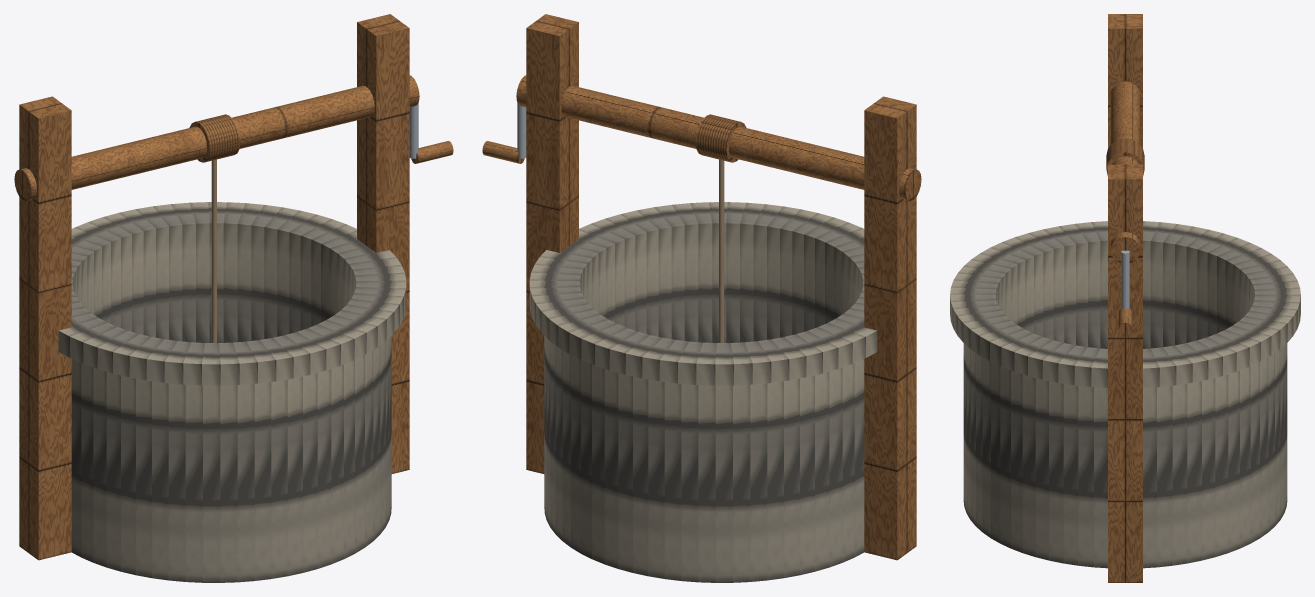
File: Kut_kerekes.obj
The picture shows the model from 3 angles, left to right: view 1: azimuth 30°, elevation 25°; view 2: azimuth 150°, elevation 25°; view 3: azimuth 270°, elevation 25°; orthographic projection. The views are drawn at different scales.
Bounding box in the file's own units: 1.67 × 1.65 × 1.3.
Materials: 5 (2 with a texture image).
